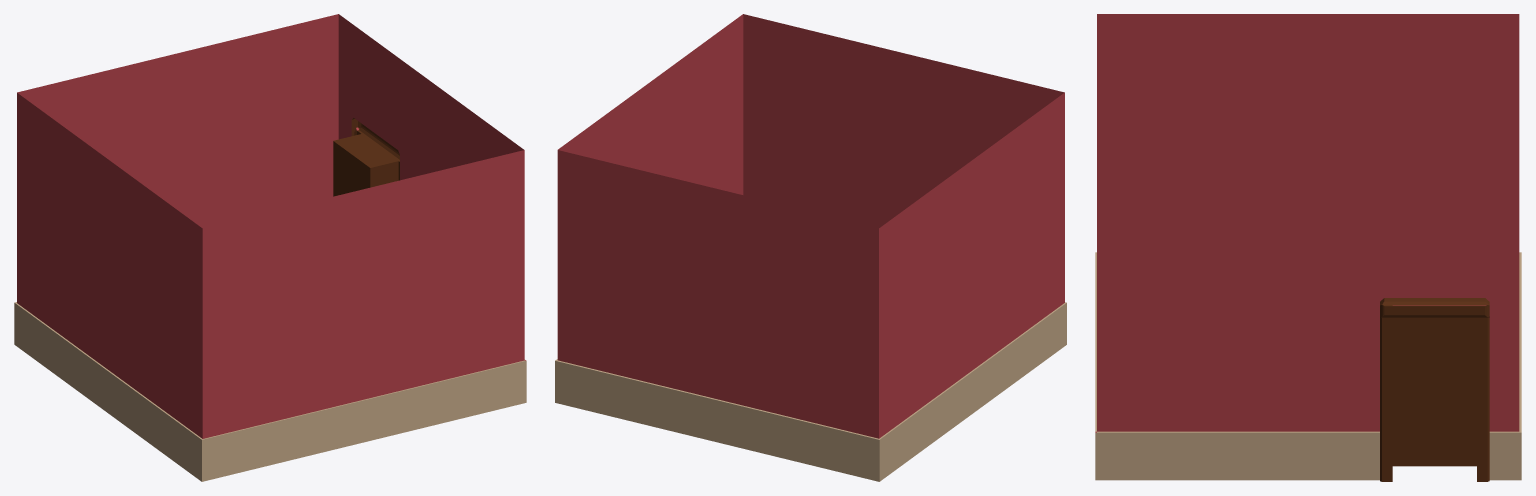
The model's file is Stucco bottom corner 4x4.fbx.
3 views of the same model, side by side, from view 1: azimuth 30°, elevation 25°; view 2: azimuth 150°, elevation 25°; view 3: azimuth 270°, elevation 25° (orthographic). The views are drawn at different scales.
Parts seen in each view (by area): view 1: Stucco bottom Corner 4; view 2: Stucco bottom Corner 4; view 3: Stucco bottom Corner 4.
Part boxes in pixels (x1,y1,x2,y2): Stucco bottom Corner 4: (14,14,526,481); Stucco bottom Corner 4: (555,14,1066,481); Stucco bottom Corner 4: (1095,14,1521,481).
Size of the model in its own units: 413 by 300 by 404.
